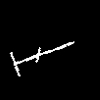double_crochet: (10, 42, 73, 75)
